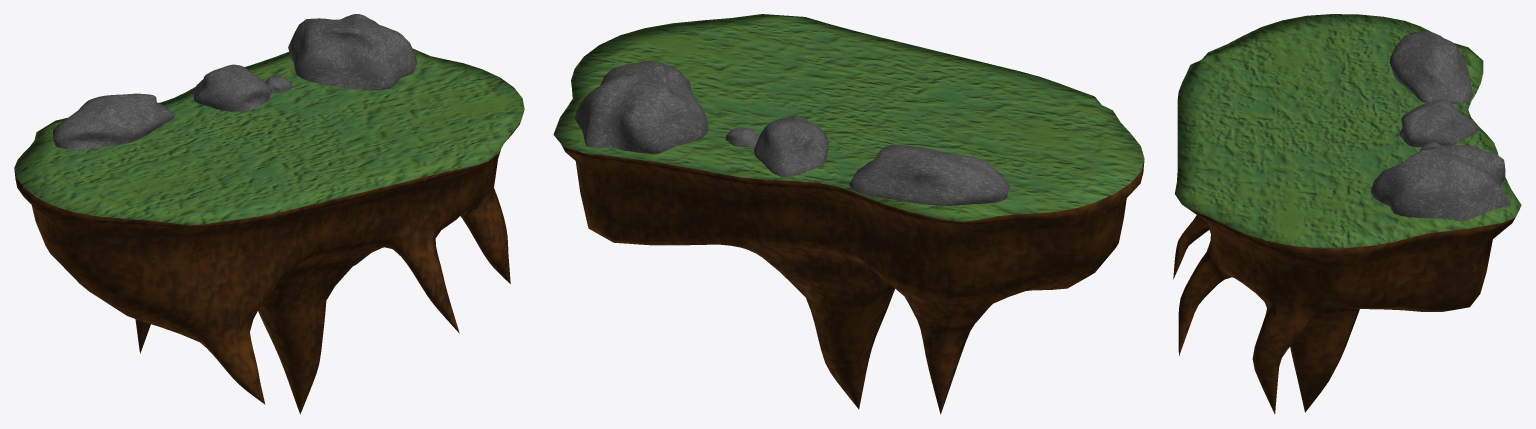
Rendered from ForestPlat2.FBX.
3 views of the same model, side by side, from view 1: azimuth 30°, elevation 25°; view 2: azimuth 150°, elevation 25°; view 3: azimuth 270°, elevation 25° (orthographic). The views are drawn at different scales.
Visible parts, largest first — view 1: Box003, Sphere005, Sphere006, Sphere007; view 2: Box003, Sphere005, Sphere006, Sphere007, Sphere008; view 3: Box003, Sphere005, Sphere006, Sphere007.
Part boxes in pixels (bbox=[...]): Box003: bbox=[14, 48, 524, 414]; Sphere005: bbox=[288, 14, 416, 90]; Sphere006: bbox=[53, 93, 175, 150]; Sphere007: bbox=[193, 64, 272, 111]; Box003: bbox=[553, 14, 1144, 414]; Sphere005: bbox=[574, 60, 708, 153]; Sphere006: bbox=[849, 145, 1009, 205]; Sphere007: bbox=[754, 115, 828, 177]; Sphere008: bbox=[725, 127, 758, 147]; Box003: bbox=[1173, 14, 1521, 413]; Sphere005: bbox=[1371, 145, 1510, 221]; Sphere006: bbox=[1389, 31, 1472, 104]; Sphere007: bbox=[1399, 99, 1477, 147].
Size of the model in its own units: 110 by 69.58 by 68.84.
3 materials, 3 textured.
